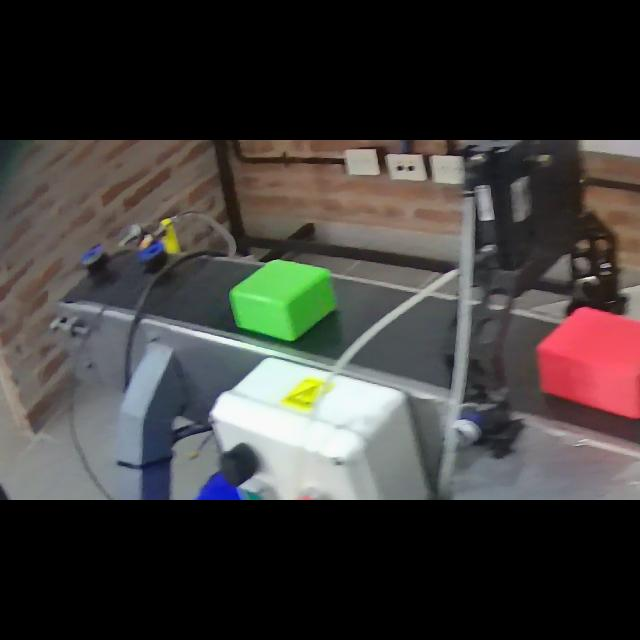greenBox: (230, 258, 340, 346)
redBox: (538, 302, 640, 422)
